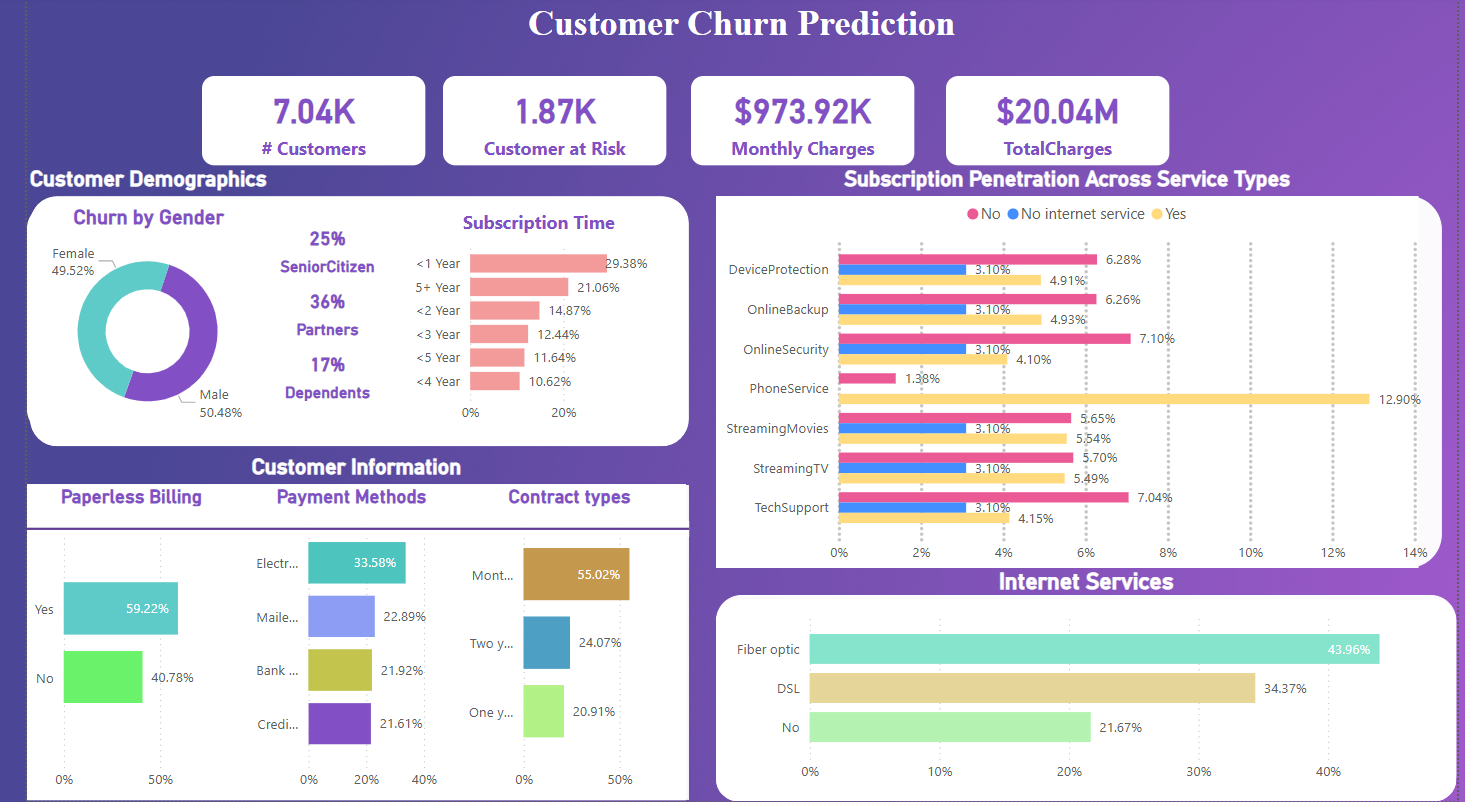

What the dashboard file says about the page in this screenshot:
{"tool":"powerbi","page":{"name":"Churn Analysis","canvas":[1280,720],"ordinal":0},"visuals":[{"type":"textbox","box":[0,0,1280,59],"z":0},{"type":"donutChart","title":"Churn by Gender","fields":{"Category":["Telco-Customer-Churn.gender"],"Y":["CountNonNull(Telco-Customer-Churn.gender)"]},"box":[0,185.3,216,206.1],"z":0,"group":"g7"},{"type":"card","fields":{"Values":["Avg(Telco-Customer-Churn.SeniorCitizen)"]},"box":[219,196.9,100,56.4],"z":0,"group":"g2"},{"type":"shape","title":"Internet Services","box":[617,511,663,209],"z":0,"group":"g9"},{"type":"card","fields":{"Values":["Sum(Telco-Customer-Churn.MonthlyCharges)"]},"box":[595,71,200,80],"z":1000,"group":"g5"},{"type":"group","id":"g1","title":"Group 5","box":[617,151,650,360],"z":1000},{"type":"clusteredBarChart","title":"Subscription Time","fields":{"Y":["CountNonNull(Telco-Customer-Churn.Churn)"],"Category":["Telco-Customer-Churn.Tenure (in years)"]},"box":[327,197,258,205],"z":1000,"group":"g7"},{"type":"card","fields":{"Values":["Telco-Customer-Churn.% of partners"]},"box":[219,253.3,100,56.4],"z":1000,"group":"g2"},{"type":"clusteredBarChart","fields":{"Category":["Telco-Customer-Churn.InternetService"],"Y":["CountNonNull(Telco-Customer-Churn.customerID)"]},"box":[617,535.9,663,184.1],"z":1000,"group":"g9"},{"type":"card","fields":{"Values":["Sum(Telco-Customer-Churn.TotalCharges)"]},"box":[823,71,200,80],"z":2000,"group":"g5"},{"type":"group","id":"g2","title":"Group 1","box":[219,196.9,100,169.1],"z":2000,"group":"g7"},{"type":"card","fields":{"Values":["Telco-Customer-Churn.% of Dependents"]},"box":[219,309.6,100,56.4],"z":2000,"group":"g2"},{"type":"group","id":"g3","title":"Group 6","box":[0,409,1280,311],"z":2000},{"type":"barChart","title":"Paperless Billing","fields":{"Category":["Telco-Customer-Churn.PaperlessBilling"],"Y":["Divide(CountNonNull(Telco-Customer-Churn.PaperlessBilling), ScopedEval(CountNonNull(Telco-Customer-Churn.PaperlessBillin"]},"box":[0,437,187,282],"z":2000,"group":"g9"},{"type":"card","fields":{"Values":["Count(Telco-Customer-Churn.customerID)"]},"box":[373,71,200,80],"z":3000,"group":"g5"},{"type":"group","id":"g4","title":"Group 7","box":[0,151,593,251],"z":3000},{"type":"card","fields":{"Values":["Count(Telco-Customer-Churn.customerID)"]},"box":[157,71,200,80],"z":4000,"group":"g5"},{"type":"shape","box":[0,469,593,14],"z":4000},{"type":"group","id":"g5","title":"Group 8","box":[157,71,866,80],"z":5000},{"type":"group","id":"g6","title":"Group 4","box":[0,151,593,251],"z":5000,"group":"g4"},{"type":"shape","title":"Customer Demographics","box":[3,151,590,251],"z":5000,"group":"g6"},{"type":"shape","title":"Subscription Penetration Across Service Types","box":[617,151,629,360],"z":5000,"group":"g8"},{"type":"group","id":"g7","title":"Group 2","box":[0,185.3,585,216.7],"z":6000,"group":"g6"},{"type":"shape","title":"Customer Information","box":[0,409,590,310],"z":6000,"group":"g3"},{"type":"group","id":"g8","title":"Group 4","box":[617,151,629,360],"z":7000,"group":"g1"},{"type":"group","id":"g9","title":"Group 3","box":[0,437,1280,283],"z":7000,"group":"g3"},{"type":"clusteredBarChart","title":"Servicetypes and Subscribed","fields":{"Series":["Telco-Customer-Churn.Subscribed"],"Category":["Telco-Customer-Churn.Servicetype"],"Y":["CountNonNull(Telco-Customer-Churn.customerID)"]},"box":[617,177.8,650,333.2],"z":8000,"group":"g1"},{"type":"clusteredBarChart","title":"Contract types","fields":{"Category":["Telco-Customer-Churn.Contract"],"Y":["CountNonNull(Telco-Customer-Churn.customerID)"]},"box":[379,437,214,282],"z":9000,"group":"g3"},{"type":"clusteredBarChart","title":"Payment Methods","fields":{"Y":["CountNonNull(Telco-Customer-Churn.customerID)"],"Category":["Telco-Customer-Churn.PaymentMethod"]},"box":[187,437,207,282],"z":10000,"group":"g3"},{"type":"textbox","box":[379,185,159,32],"z":10002,"group":"g4"}]}

Visuals, with their boxes in screenshot pixels (x1, y1, x2, y2), scaled from the page's 1280x720 canvas onto the 1465x802 screenshot:
textbox: 0:0:1464:66
"Churn by Gender" donutChart: 0:206:247:436
card - Avg(Telco-Customer-Churn.SeniorCitizen): 251:219:365:282
"Internet Services" shape: 706:569:1464:801
card - Sum(Telco-Customer-Churn.MonthlyCharges): 681:79:910:168
"Group 5" group: 706:168:1450:569
"Subscription Time" clusteredBarChart: 374:219:670:448
card - Telco-Customer-Churn.% of partners: 251:282:365:345
clusteredBarChart - Telco-Customer-Churn.InternetService x CountNonNull(Telco-Customer-Churn.customerID): 706:597:1464:801
card - Sum(Telco-Customer-Churn.TotalCharges): 942:79:1171:168
"Group 1" group: 251:219:365:408
card - Telco-Customer-Churn.% of Dependents: 251:345:365:408
"Group 6" group: 0:456:1464:801
"Paperless Billing" barChart: 0:487:214:801
card - Count(Telco-Customer-Churn.customerID): 427:79:656:168
"Group 7" group: 0:168:679:448
card - Count(Telco-Customer-Churn.customerID): 180:79:409:168
shape: 0:522:679:538
"Group 8" group: 180:79:1171:168
"Group 4" group: 0:168:679:448
"Customer Demographics" shape: 3:168:679:448
"Subscription Penetration Across Service Types" shape: 706:168:1426:569
"Group 2" group: 0:206:670:448
"Customer Information" shape: 0:456:675:801
"Group 4" group: 706:168:1426:569
"Group 3" group: 0:487:1464:801
"Servicetypes and Subscribed" clusteredBarChart: 706:198:1450:569
"Contract types" clusteredBarChart: 434:487:679:801
"Payment Methods" clusteredBarChart: 214:487:451:801
textbox: 434:206:616:242
